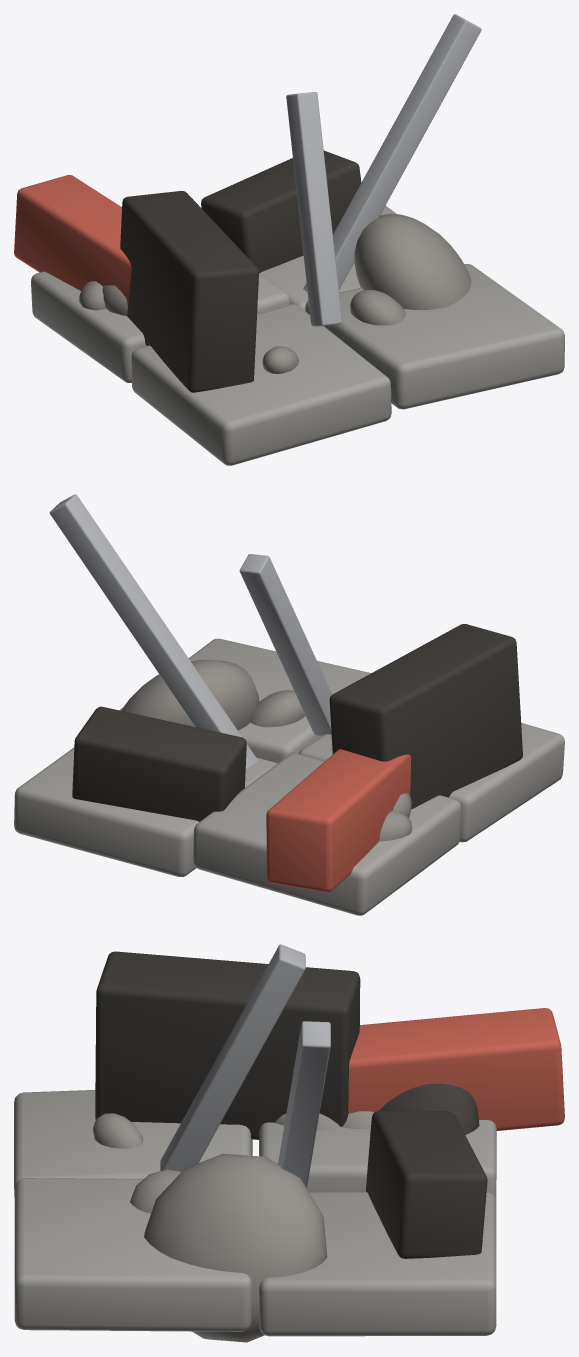
Rendered from building_ruin2x2.glb.
3 renders of one model, top to bottom at view 1: azimuth 30°, elevation 25°; view 2: azimuth 150°, elevation 25°; view 3: azimuth 270°, elevation 25°, orthographic. The views are drawn at different scales.
Visible parts, largest first — view 1: Cube, Cube.006, Cube.001, Cube.004, Cube.005, Cube.008, Sphere.005, Cube.007, Cube.002, Cube.003, Sphere.003, Sphere.006 (+2 smaller); view 2: Cube.006, Cube.005, Cube.002, Cube.004, Cube.003, Cube.008, Cube, Cube.007, Cube.001, Sphere.005, Sphere.003, Sphere.001; view 3: Cube.006, Cube.001, Cube.003, Cube.004, Sphere.005, Cube.005, Cube, Cube.007, Cube.002, Cube.008, Sphere.002, Sphere.006 (+1 smaller).
Boxes of the visible parts, <box> form: Cube: <box>131,304,391,465</box>; Cube.006: <box>120,191,258,392</box>; Cube.001: <box>305,264,564,409</box>; Cube.004: <box>14,175,131,315</box>; Cube.005: <box>201,150,361,273</box>; Cube.008: <box>303,14,481,292</box>; Sphere.005: <box>354,213,471,309</box>; Cube.007: <box>286,92,342,326</box>; Cube.002: <box>31,271,290,382</box>; Cube.003: <box>259,205,396,310</box>; Sphere.003: <box>350,290,405,325</box>; Sphere.006: <box>262,346,298,373</box>; Cube.006: <box>329,624,522,809</box>; Cube.005: <box>72,706,246,821</box>; Cube.002: <box>192,753,461,915</box>; Cube.004: <box>266,749,411,892</box>; Cube.003: <box>14,747,277,876</box>; Cube.008: <box>49,494,258,768</box>; Cube: <box>298,723,564,842</box>; Cube.007: <box>239,554,332,735</box>; Cube.001: <box>119,638,371,763</box>; Sphere.005: <box>121,659,259,730</box>; Sphere.003: <box>250,690,305,727</box>; Sphere.001: <box>379,810,412,841</box>; Cube.006: <box>95,951,360,1139</box>; Cube.001: <box>14,1178,251,1331</box>; Cube.003: <box>259,1192,496,1336</box>; Cube.004: <box>292,1008,564,1130</box>; Sphere.005: <box>144,1153,327,1342</box>; Cube.005: <box>365,1111,487,1258</box>; Cube: <box>14,1090,252,1197</box>; Cube.007: <box>160,944,305,1171</box>; Cube.002: <box>259,1119,496,1200</box>; Cube.008: <box>278,1021,330,1188</box>; Sphere.002: <box>379,1083,479,1134</box>; Sphere.006: <box>93,1113,142,1148</box>.
Bounding box in the file's own units: 2.16 × 1.58 × 2.25.
